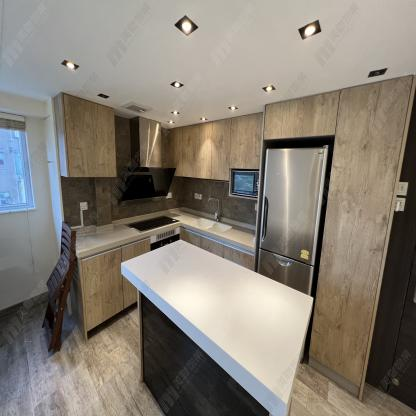Cupboard: (61, 71, 416, 402), (79, 237, 150, 341), (180, 225, 253, 270)
Exhaust Hood: (117, 169, 177, 203)
Faucet: (207, 195, 221, 222)
Fridge: (256, 144, 329, 297)
Microwave: (231, 170, 259, 198)
Oven: (149, 226, 181, 252)
Sink: (188, 217, 233, 234)
Stove: (124, 215, 180, 233)
